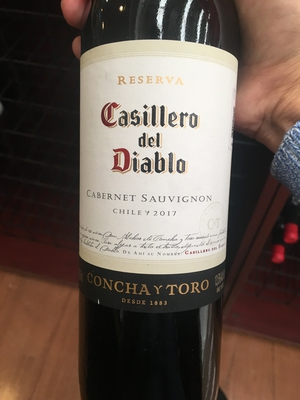casillero del diablo cabernet sauvignon: (77, 3, 236, 400)
